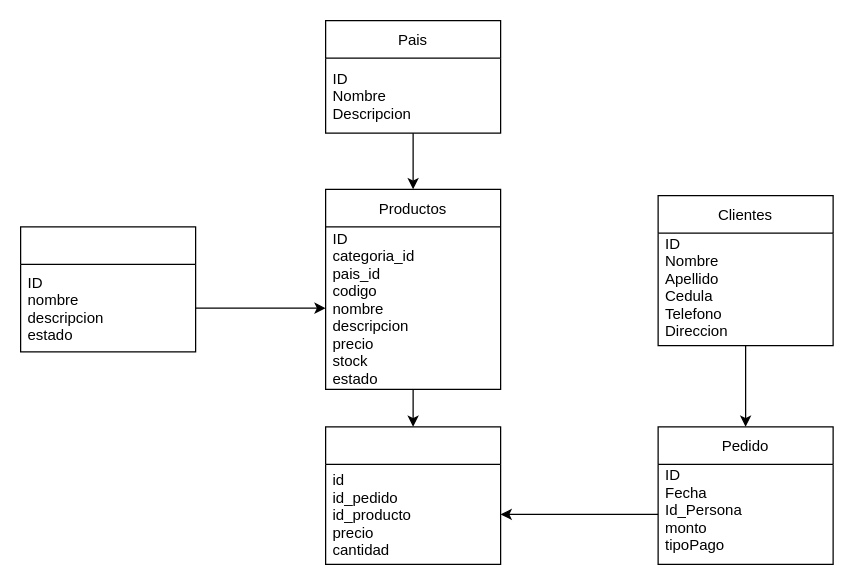
The diagram is 854 pixels wide and 585 high, and some of its shapes have lost their labels. The shapes that lost their labels are listed below. From the top down, each one's box as (x1, y1, x2, y2) in pixels, then its label:
(19, 226, 196, 352): Categoria
(324, 426, 501, 564): Detalle_Pedidos
